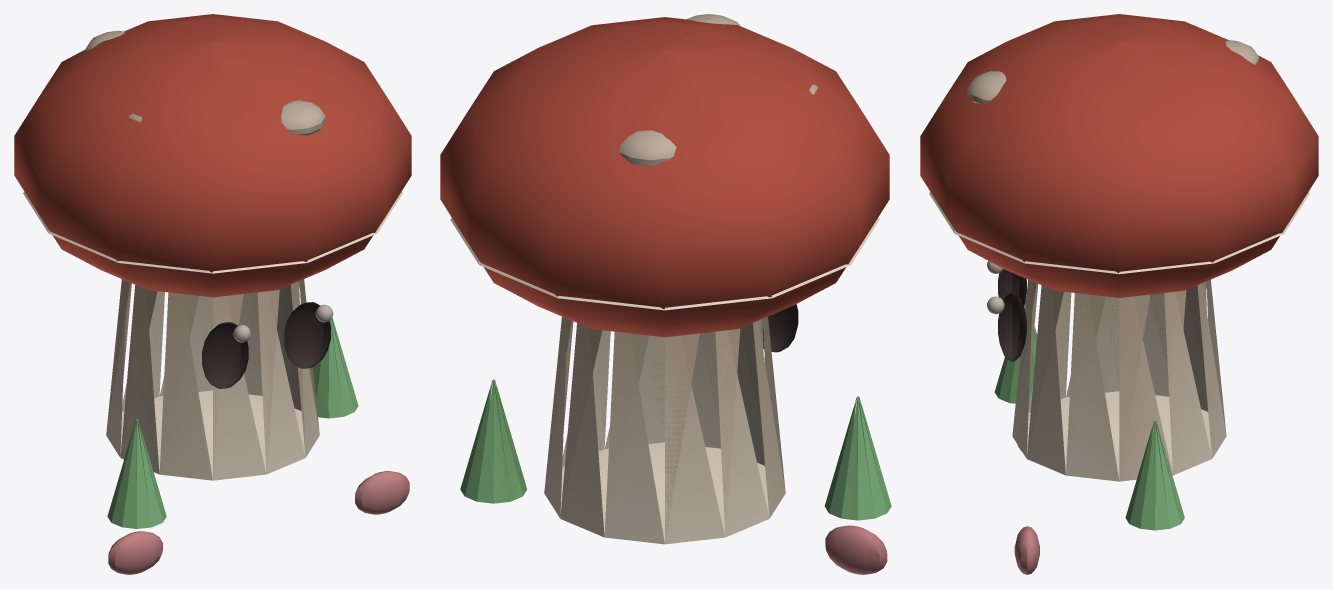
3 renders of one model, left to right at view 1: azimuth 30°, elevation 25°; view 2: azimuth 150°, elevation 25°; view 3: azimuth 270°, elevation 25°, orthographic. The views are drawn at different scales.
Visible parts, largest first — view 1: pet_p022266d5; view 2: pet_p022266d5; view 3: pet_p022266d5.
Boxes of the visible parts, x1=… form: pet_p022266d5: x1=14, y1=14, x2=411, y2=574; pet_p022266d5: x1=440, y1=14, x2=891, y2=574; pet_p022266d5: x1=920, y1=14, x2=1318, y2=574.
Bounding box in the file's own units: 0.3348 × 0.4343 × 0.3348.
